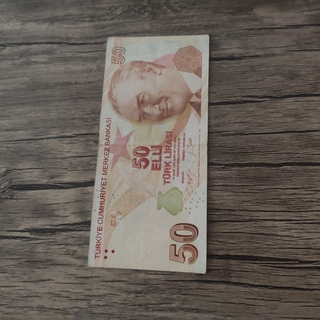50TLFront: (87, 33, 209, 274)
